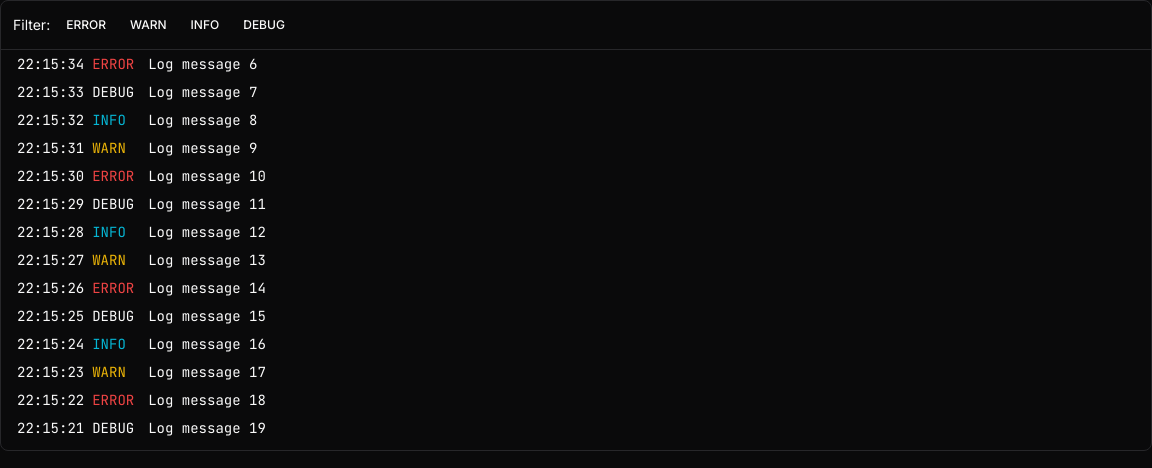
it: LogStream › filters by log level
(page scrolled)
Click the button with test id "filter-error".
click(86, 25)  # box [58,13,114,37]
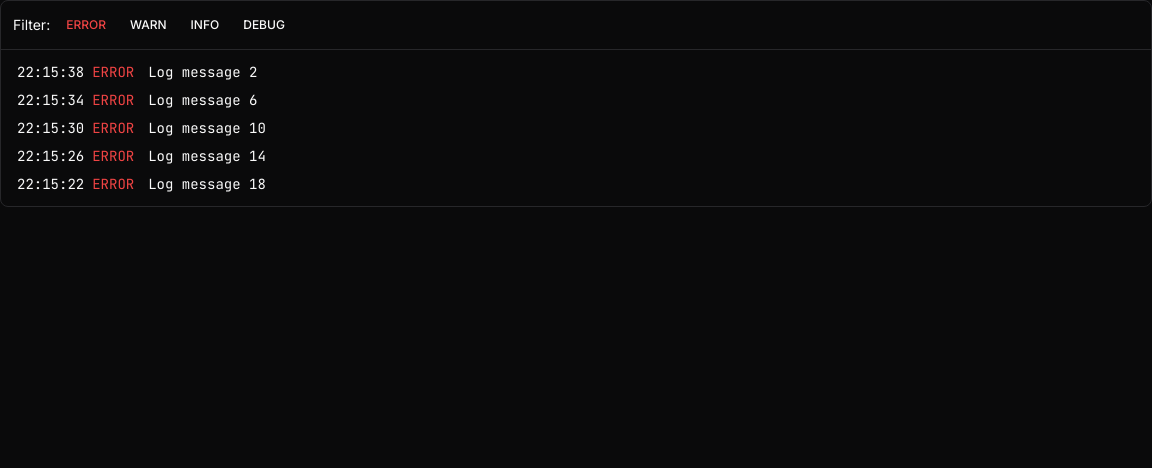
Result: the element with test id "log-entry" shows "ERROR" at [92,63,134,81]
